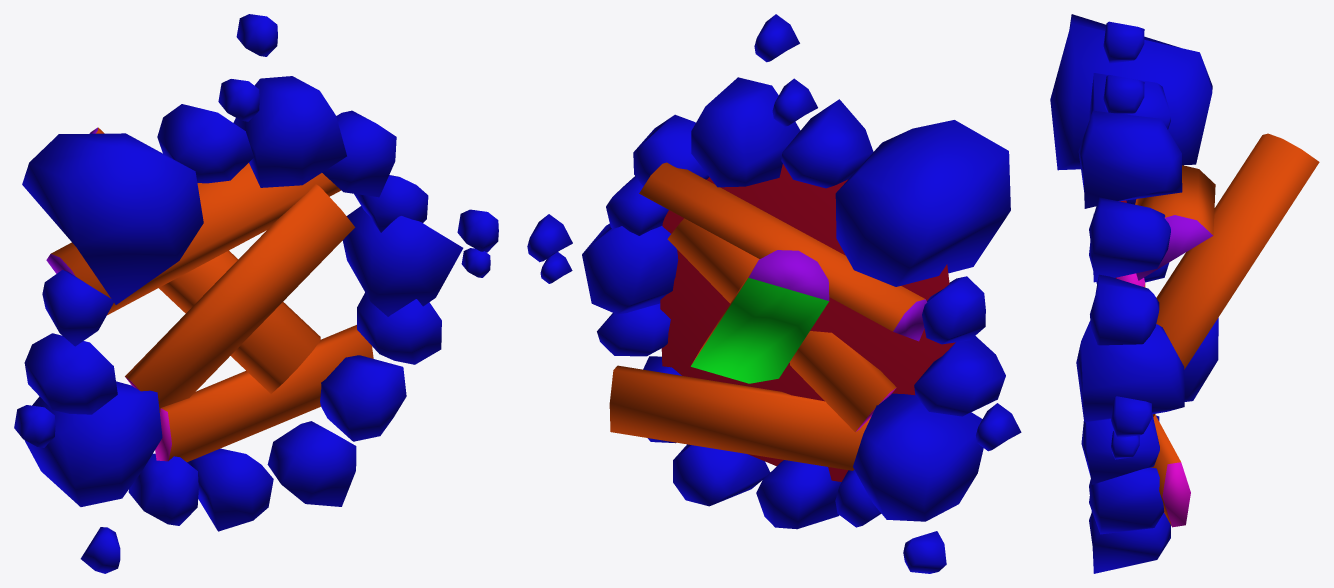
The model's file is Campfire.gltf.
The picture shows the model from 3 angles, left to right: view 1: azimuth 30°, elevation 25°; view 2: azimuth 150°, elevation 25°; view 3: azimuth 270°, elevation 25°; orthographic projection. The views are drawn at different scales.
Visible parts, largest first — view 1: Campfire; view 2: Campfire; view 3: Campfire.
Part boxes in pixels (x1=…): Campfire: x1=14, y1=14, x2=498, y2=573; Campfire: x1=527, y1=14, x2=1021, y2=573; Campfire: x1=1050, y1=14, x2=1319, y2=573.
Bounding box in the file's own units: 818 × 847 × 384.
